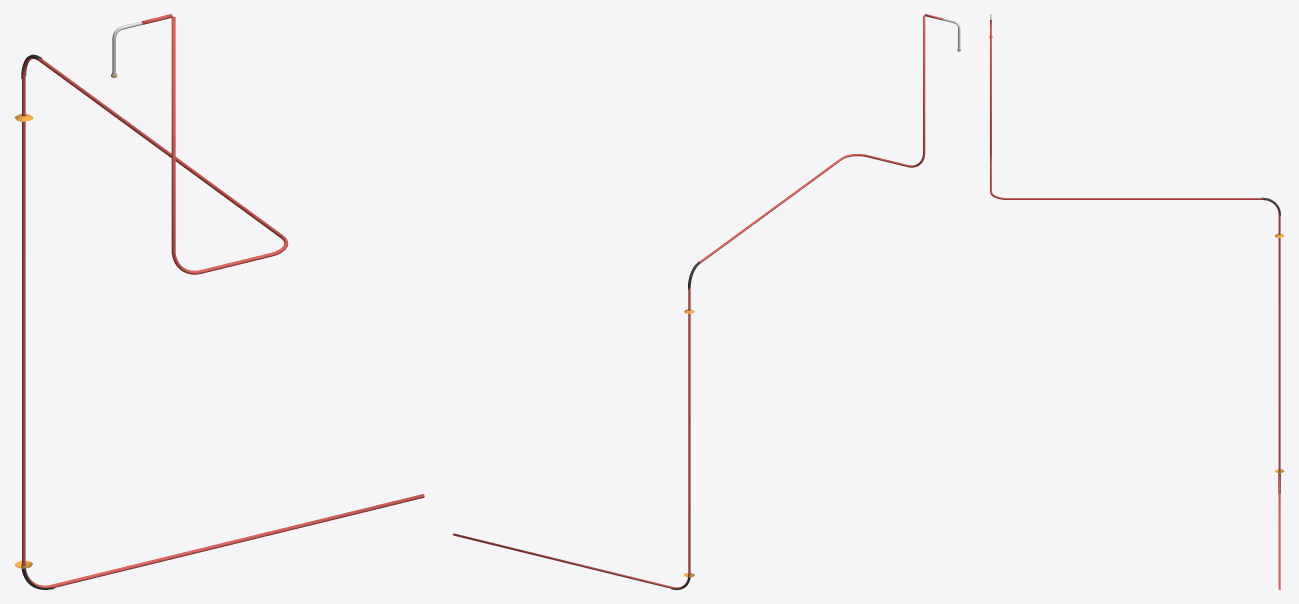
File: pipes_supply__water_heater__4d5ae3da.glb
The picture shows the model from 3 angles, left to right: view 1: azimuth 30°, elevation 25°; view 2: azimuth 150°, elevation 25°; view 3: azimuth 270°, elevation 25°; orthographic projection. The views are drawn at different scales.
Parts seen in each view (by area): view 1: pipe_supply_hot_wh_attic__pex; view 2: pipe_supply_hot_wh_attic__pex; view 3: pipe_supply_hot_wh_attic__pex.
Part boxes in pixels (left/top/right/bottom): pipe_supply_hot_wh_attic__pex: left=22, top=14, right=424, bottom=588; pipe_supply_hot_wh_attic__pex: left=453, top=14, right=942, bottom=588; pipe_supply_hot_wh_attic__pex: left=990, top=19, right=1280, bottom=589.
Bounding box in the file's own units: 3.82 × 5.07 × 3.16.
